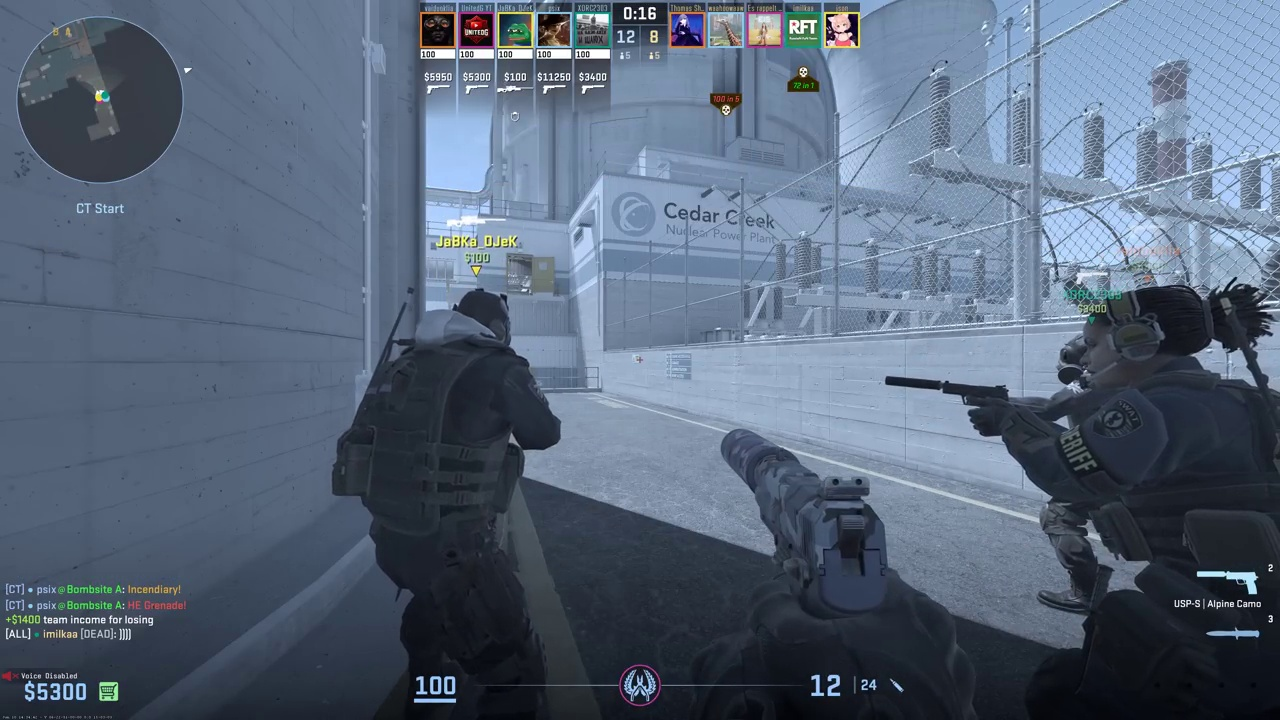CT: (1019, 290, 1277, 720), (364, 286, 554, 720)
